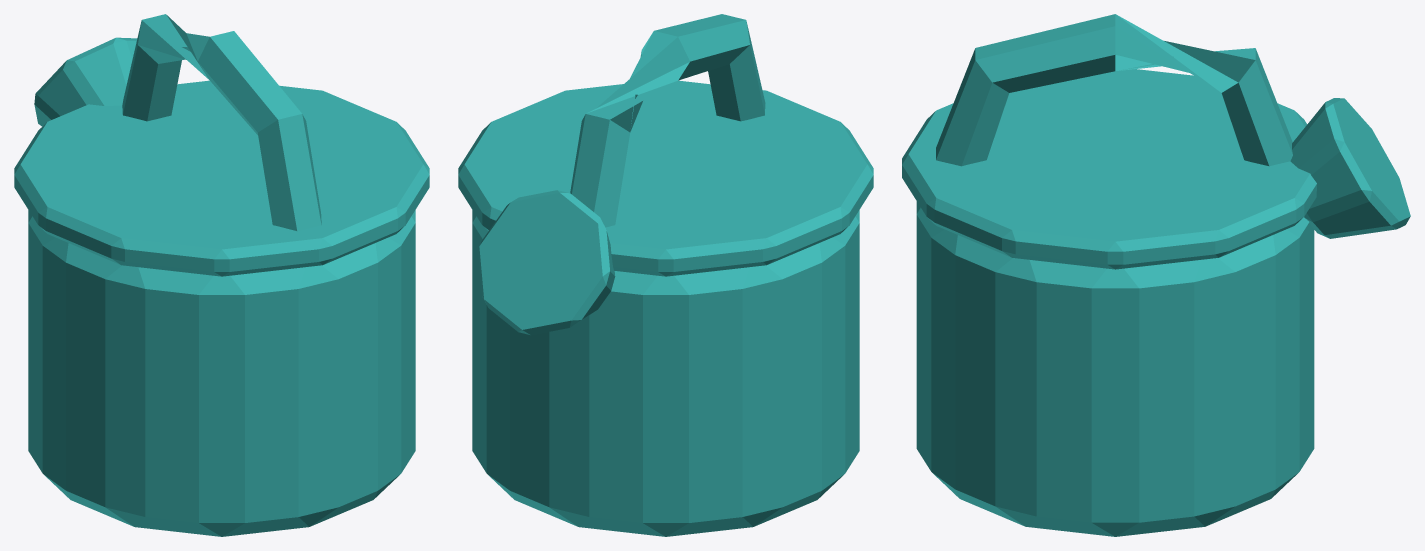
The model's file is watering_can.glb.
3 renders of one model, left to right at view 1: azimuth 30°, elevation 25°; view 2: azimuth 150°, elevation 25°; view 3: azimuth 270°, elevation 25°, orthographic. The views are drawn at different scales.
Visible parts, largest first — view 1: watering_can; view 2: watering_can; view 3: watering_can.
Boxes of the visible parts, x1,y1,x2,y2 form: watering_can: (14,14,429,536); watering_can: (458,14,873,536); watering_can: (902,14,1410,536).
Bounding box in the file's own units: 0.2079 × 0.2371 × 0.2479.
